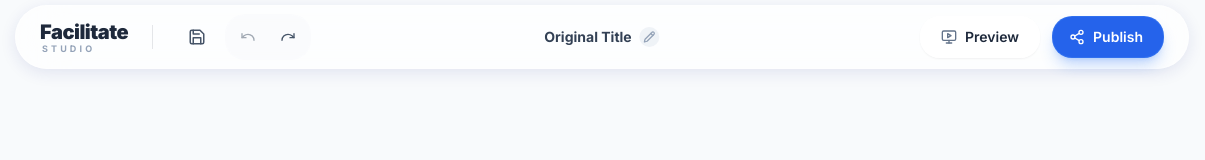
Test: TopBar › reverts to original title on Escape
Step 1. Click the button "Original Title" → [602, 37], box top-left (528, 21), bottom-right (676, 53)
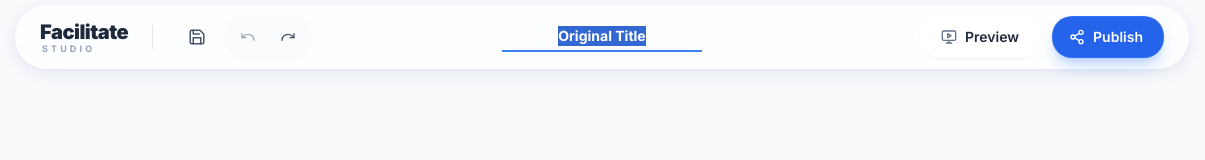
Step 2. Replace the text in the field showing "Original Title" with "Modified Title" → [602, 37], box top-left (502, 22), bottom-right (702, 52)
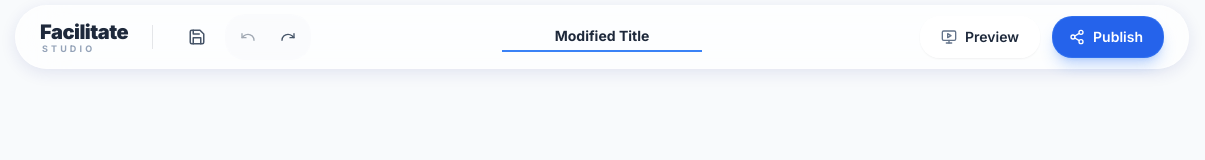
Step 3. Press Escape
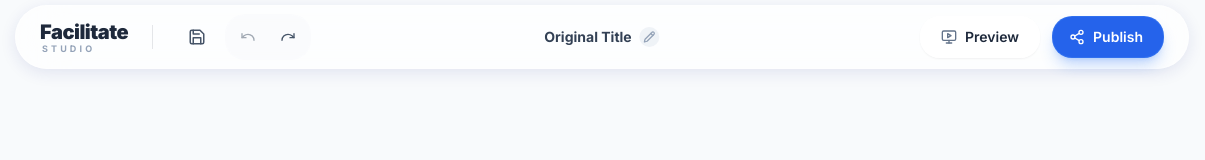
Now the text "Original Title" is shown, box top-left (544, 27), bottom-right (632, 47)
